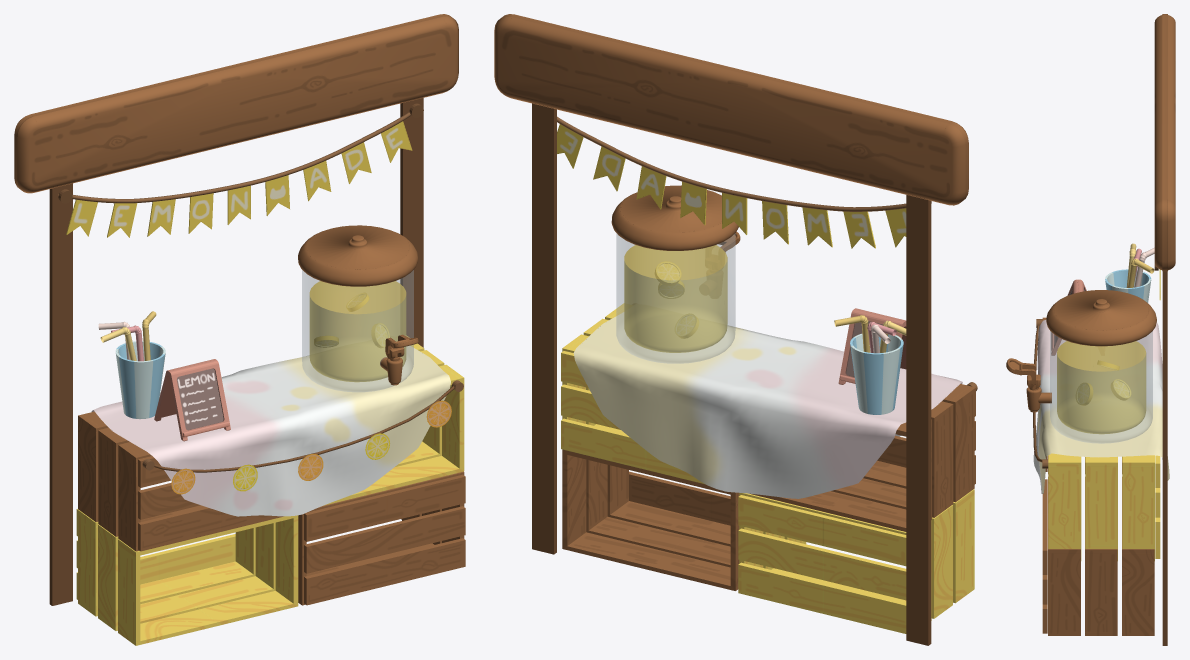
The model's file is detailed_stand.glb.
The picture shows the model from 3 angles, left to right: view 1: azimuth 30°, elevation 25°; view 2: azimuth 150°, elevation 25°; view 3: azimuth 270°, elevation 25°; orthographic projection. The views are drawn at different scales.
Parts seen in each view (by area): view 1: Letrero, Mantel, Caja_01, Caja_03, Postes, Caja_02, Tarro, Jugo, Banderines, Tapa, Caja_04, Pizarra (+4 smaller); view 2: Letrero, Mantel, Postes, Caja_01, Caja_03, Tarro, Jugo, Caja_02, Banderines, Caja_04, Tapa, Vaso (+2 smaller); view 3: Tarro, Caja_04, Caja_03, Jugo, Mantel, Letrero, Tapa, Postes, Llave, Vaso, Pizarra, Lemon.002 (+3 smaller).
Part boxes in pixels (bbox=[...]): Letrero: bbox=[14, 14, 458, 193]; Mantel: bbox=[91, 345, 450, 516]; Caja_01: bbox=[76, 509, 298, 645]; Caja_03: bbox=[298, 471, 465, 605]; Postes: bbox=[49, 97, 423, 605]; Caja_02: bbox=[78, 411, 283, 551]; Tarro: bbox=[302, 270, 413, 391]; Jugo: bbox=[309, 281, 406, 382]; Banderines: bbox=[66, 121, 412, 237]; Tapa: bbox=[298, 225, 417, 286]; Caja_04: bbox=[323, 335, 464, 505]; Pizarra: bbox=[154, 359, 230, 441]; Letrero: bbox=[494, 14, 968, 205]; Mantel: bbox=[573, 312, 962, 498]; Postes: bbox=[532, 103, 931, 645]; Caja_01: bbox=[738, 489, 974, 633]; Caja_03: bbox=[562, 449, 739, 590]; Tarro: bbox=[616, 233, 735, 363]; Jugo: bbox=[624, 245, 727, 352]; Caja_02: bbox=[750, 384, 975, 531]; Banderines: bbox=[557, 124, 906, 248]; Caja_04: bbox=[561, 303, 704, 483]; Tapa: bbox=[611, 185, 738, 250]; Vaso: bbox=[850, 333, 903, 414]; Tarro: bbox=[1050, 331, 1152, 443]; Caja_04: bbox=[1048, 453, 1160, 548]; Caja_03: bbox=[1042, 477, 1154, 635]; Jugo: bbox=[1057, 341, 1146, 434]; Mantel: bbox=[1033, 320, 1169, 493]; Letrero: bbox=[1154, 14, 1175, 271]; Tapa: bbox=[1046, 290, 1156, 346]; Postes: bbox=[1162, 271, 1167, 645]; Llave: bbox=[1006, 358, 1051, 412]; Vaso: bbox=[1105, 269, 1151, 302]; Pizarra: bbox=[1051, 279, 1086, 355]; Lemon.002: bbox=[1076, 383, 1092, 405].
Bounding box in the file's own units: 6.81 × 7.29 × 2.46.
20 materials, 18 textured.
